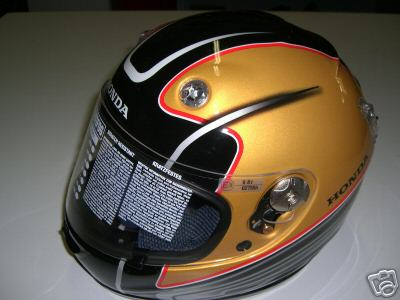helmet: (85, 22, 368, 275)
